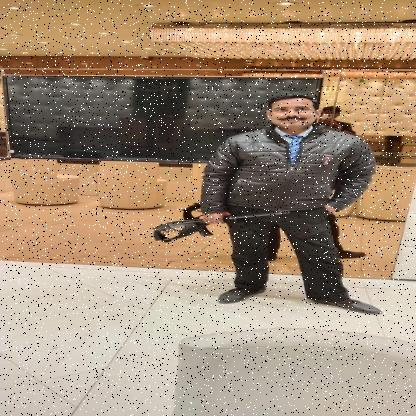rifle: (150, 210, 292, 242)
